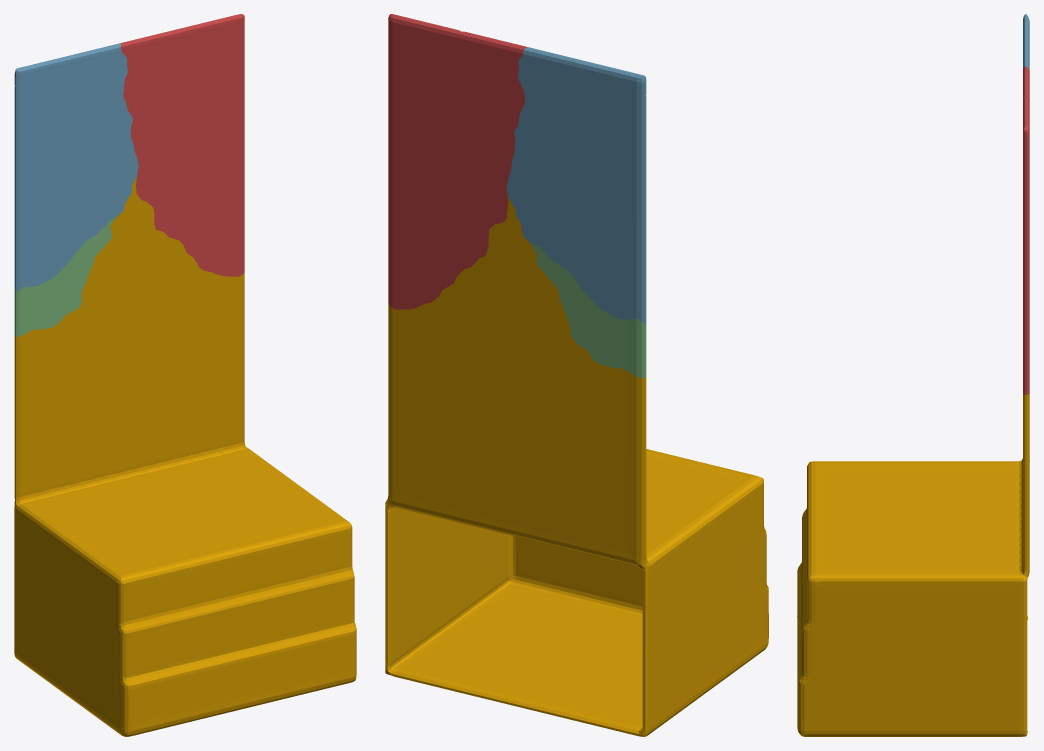
The model's file is mode_5_4pcs.glb.
3 renders of one model, left to right at view 1: azimuth 30°, elevation 25°; view 2: azimuth 150°, elevation 25°; view 3: azimuth 270°, elevation 25°, orthographic. The views are drawn at different scales.
Visible parts, largest first — view 1: piece_0.obj, piece_1.obj, piece_2.obj, piece_3.obj; view 2: piece_0.obj, piece_1.obj, piece_2.obj, piece_3.obj; view 3: piece_0.obj, piece_1.obj.
Part boxes in pixels (box(x1,y1,x2,y2)): piece_0.obj: box(14, 177, 356, 736); piece_1.obj: box(121, 14, 244, 276); piece_2.obj: box(14, 43, 138, 291); piece_3.obj: box(14, 219, 114, 337); piece_0.obj: box(385, 196, 768, 736); piece_1.obj: box(388, 14, 527, 309); piece_2.obj: box(506, 47, 646, 324); piece_3.obj: box(530, 242, 646, 377); piece_0.obj: box(797, 394, 1029, 736); piece_1.obj: box(1023, 66, 1029, 394).
Bounding box in the file's own units: 0.4162 × 1 × 0.3467.
